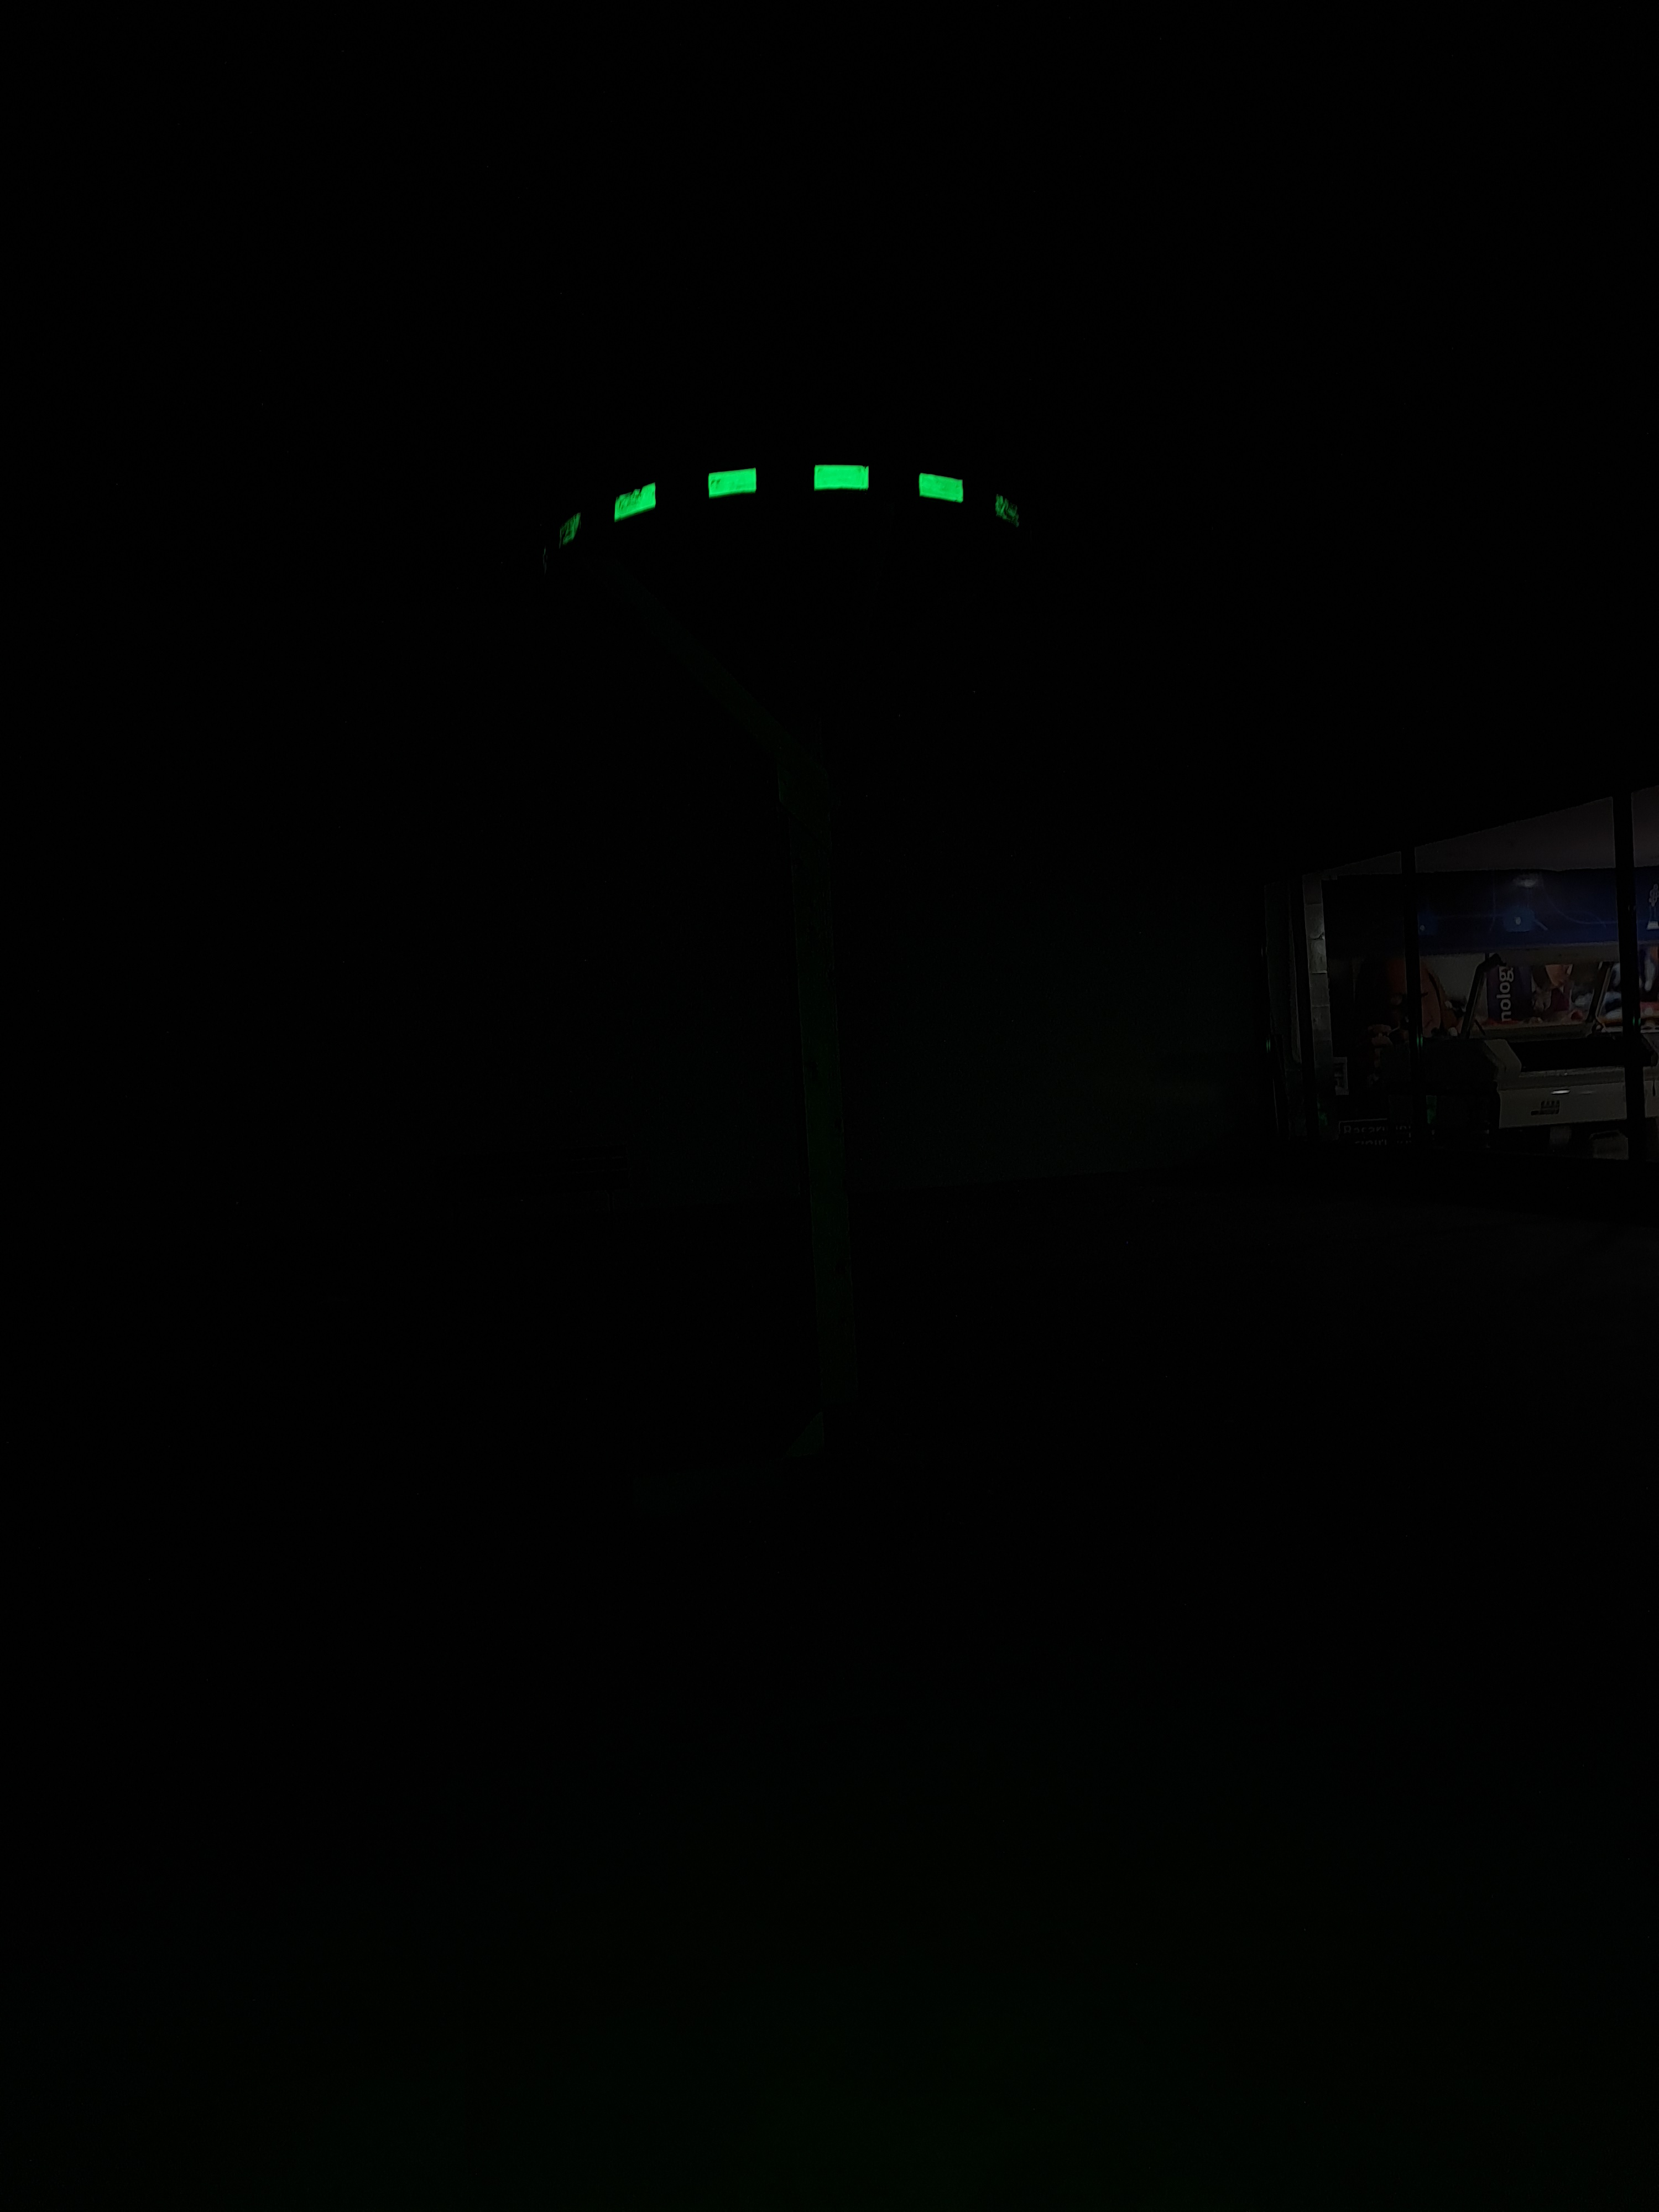hoop: (516, 437, 1060, 577)
